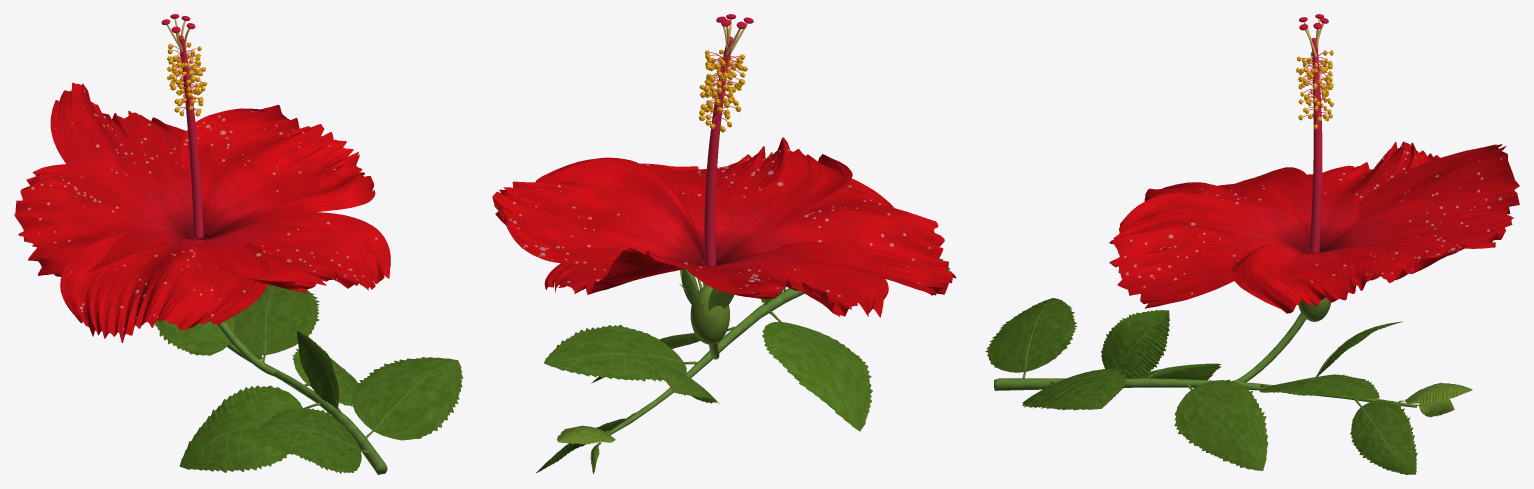
The model's file is hibiscus-core.glb.
The picture shows the model from 3 angles, left to right: view 1: azimuth 30°, elevation 25°; view 2: azimuth 150°, elevation 25°; view 3: azimuth 270°, elevation 25°; orthographic projection. The views are drawn at different scales.
Visible parts, largest first — view 1: Petal 5 • folded fan surface, Petal 3 • folded fan surface, Petal 1 • folded fan surface, Petal 4 • folded fan surface, Petal 2 • folded fan surface, Foliage leaf 02 • asymmetric serrated blade, Foliage leaf 04 • asymmetric serrated blade, Foliage leaf 01 • asymmetric serrated blade, Foliage leaf 06 • asymmetric serrated blade, 96 lobed golden anthers, Foliage leaf 01 petiole, Foliage leaf 01 curved midrib (+4 smaller); view 2: Petal 5 • folded fan surface, Petal 3 • folded fan surface, Petal 4 • folded fan surface, Petal 2 • folded fan surface, Foliage leaf 04 • asymmetric serrated blade, Foliage leaf 06 • asymmetric serrated blade, 96 lobed golden anthers, Petal 1 • folded fan surface, Foliage leaf 01 petiole, Foliage leaf 01 curved midrib, Green receptacle, Foliage leaf 07 • asymmetric serrated blade (+4 smaller); view 3: Petal 1 • folded fan surface, Petal 4 • folded fan surface, Petal 5 • folded fan surface, Foliage leaf 05 • asymmetric serrated blade, Petal 2 • folded fan surface, Foliage leaf 01 • asymmetric serrated blade, Petal 3 • folded fan surface, Foliage leaf 08 • asymmetric serrated blade, 96 lobed golden anthers, Foliage leaf 03 • asymmetric serrated blade, Foliage leaf 01 curved midrib, Foliage leaf 02 • asymmetric serrated blade (+6 smaller).
Boxes of the visible parts, x1=… form: Petal 5 • folded fan surface: x1=180, y1=104, x2=375, y2=239; Petal 3 • folded fan surface: x1=60, y1=231, x2=270, y2=342; Petal 1 • folded fan surface: x1=50, y1=82, x2=217, y2=238; Petal 4 • folded fan surface: x1=194, y1=212, x2=390, y2=292; Petal 2 • folded fan surface: x1=14, y1=164, x2=193, y2=276; Foliage leaf 02 • asymmetric serrated blade: x1=351, y1=357, x2=463, y2=440; Foliage leaf 04 • asymmetric serrated blade: x1=179, y1=385, x2=303, y2=472; Foliage leaf 01 • asymmetric serrated blade: x1=251, y1=407, x2=361, y2=473; Foliage leaf 06 • asymmetric serrated blade: x1=233, y1=284, x2=319, y2=355; 96 lobed golden anthers: x1=161, y1=14, x2=207, y2=239; Foliage leaf 01 petiole: x1=218, y1=321, x2=387, y2=474; Foliage leaf 01 curved midrib: x1=160, y1=286, x2=461, y2=470; Petal 5 • folded fan surface: x1=492, y1=157, x2=704, y2=266; Petal 3 • folded fan surface: x1=716, y1=172, x2=956, y2=295; Petal 4 • folded fan surface: x1=640, y1=137, x2=852, y2=264; Petal 2 • folded fan surface: x1=687, y1=242, x2=888, y2=317; Foliage leaf 04 • asymmetric serrated blade: x1=762, y1=321, x2=872, y2=431; Foliage leaf 06 • asymmetric serrated blade: x1=544, y1=324, x2=686, y2=381; 96 lobed golden anthers: x1=698, y1=14, x2=753, y2=266; Petal 1 • folded fan surface: x1=544, y1=247, x2=746, y2=294; Foliage leaf 01 petiole: x1=595, y1=288, x2=804, y2=442; Foliage leaf 01 curved midrib: x1=539, y1=321, x2=867, y2=470; Green receptacle: x1=690, y1=285, x2=729, y2=344; Foliage leaf 07 • asymmetric serrated blade: x1=645, y1=357, x2=719, y2=403; Petal 1 • folded fan surface: x1=1321, y1=144, x2=1519, y2=252; Petal 4 • folded fan surface: x1=1109, y1=193, x2=1305, y2=308; Petal 5 • folded fan surface: x1=1231, y1=237, x2=1465, y2=313; Foliage leaf 05 • asymmetric serrated blade: x1=1174, y1=379, x2=1268, y2=470; Petal 2 • folded fan surface: x1=1268, y1=141, x2=1439, y2=252; Foliage leaf 01 • asymmetric serrated blade: x1=985, y1=298, x2=1076, y2=372; Petal 3 • folded fan surface: x1=1144, y1=167, x2=1312, y2=253; Foliage leaf 08 • asymmetric serrated blade: x1=1350, y1=400, x2=1417, y2=474; 96 lobed golden anthers: x1=1296, y1=14, x2=1333, y2=253; Foliage leaf 03 • asymmetric serrated blade: x1=1101, y1=310, x2=1169, y2=378; Foliage leaf 01 curved midrib: x1=992, y1=300, x2=1470, y2=472; Foliage leaf 02 • asymmetric serrated blade: x1=1022, y1=368, x2=1127, y2=410.
Bounding box in the file's own units: 6.39 × 7.27 × 8.87.
20 materials, 20 textured.
